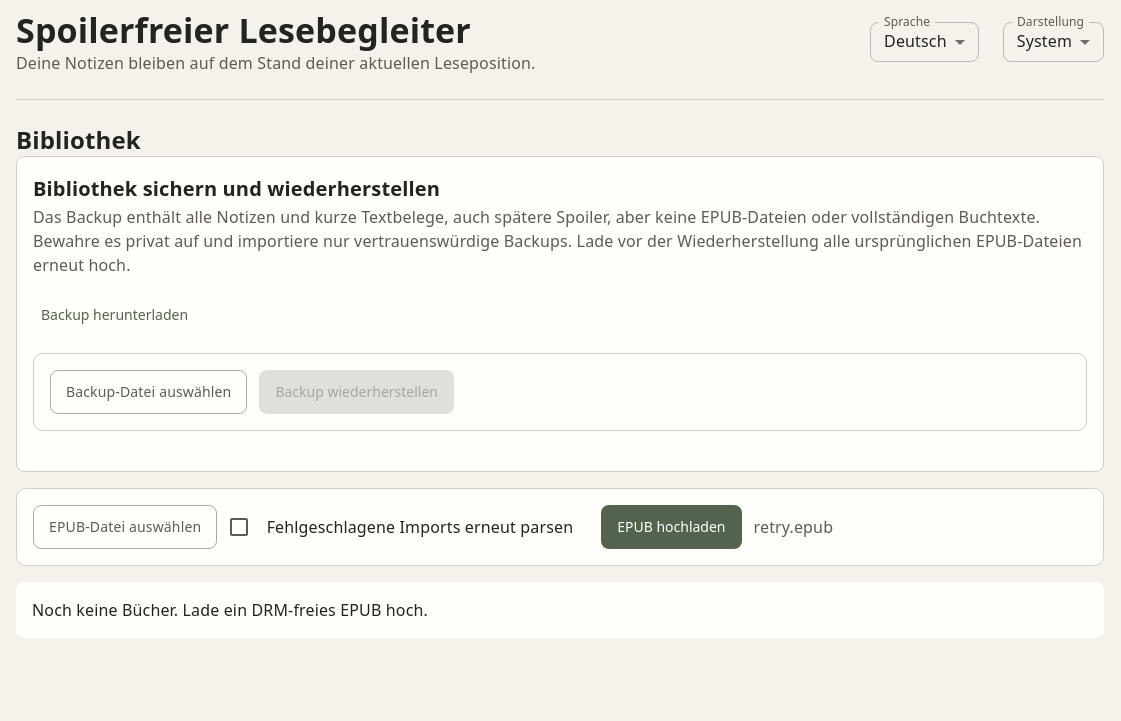
Test: App › sends the retry option and resets it after a successful upload
Earlier steps of the test are not shown.
Expected: the text "Noch keine Bücher. Lade ein DRM-freies EPUB hoch." is shown, 16,582 -> 1104,638
Step 1. Click the checkbox labelled "Fehlgeschlagene Imports erneut parsen" → point(400, 527), box 227,515 -> 573,539
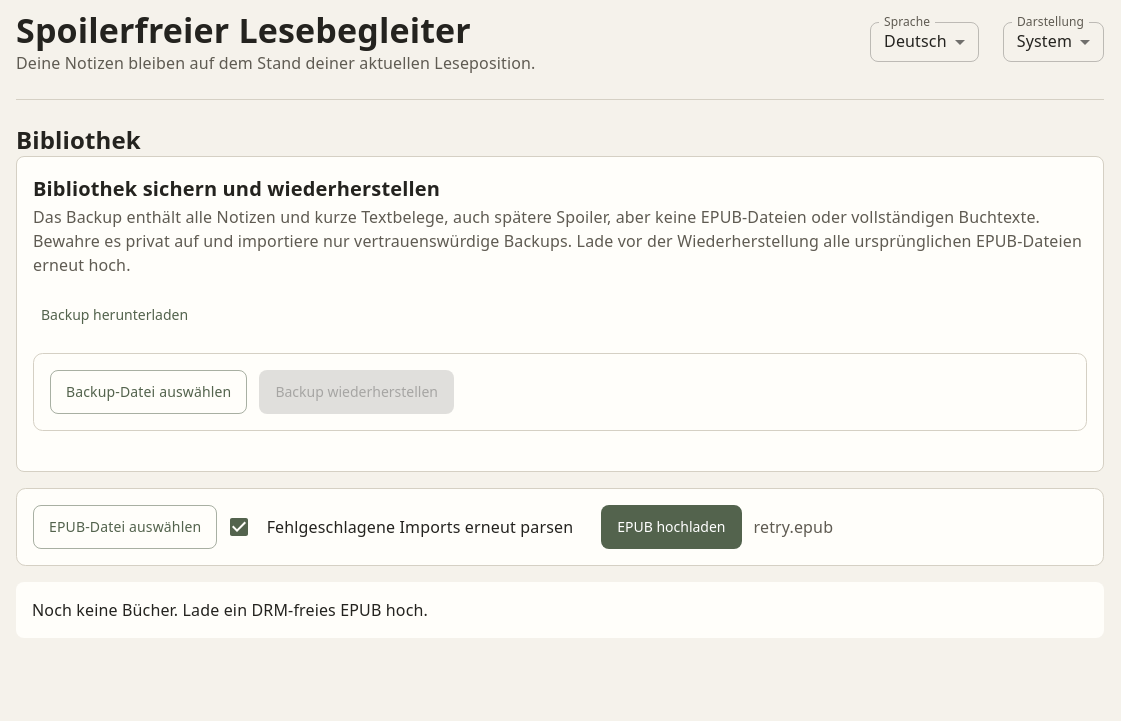
Step 2. Click the button "EPUB hochladen" → point(671, 527), box 601,505 -> 742,549
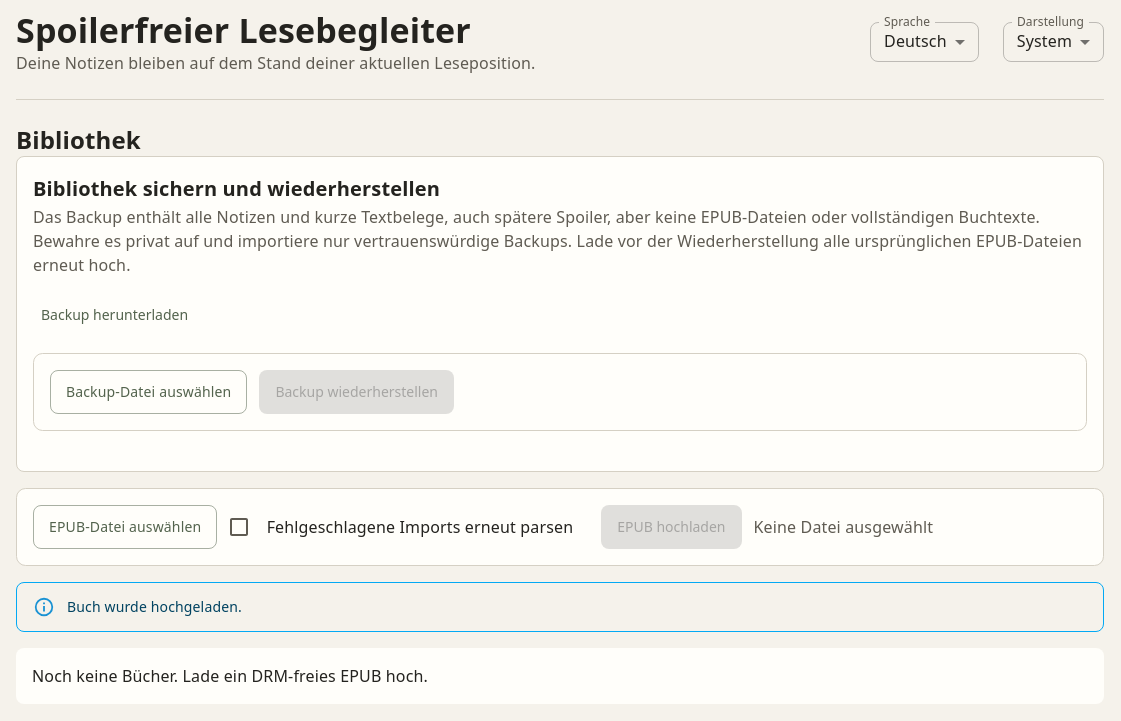
Now the checkbox labelled "Fehlgeschlagene Imports erneut parsen" is not checked, box 227,515 -> 573,539
Now the text "Buch wurde hochgeladen." is shown, box 67,597 -> 242,617
